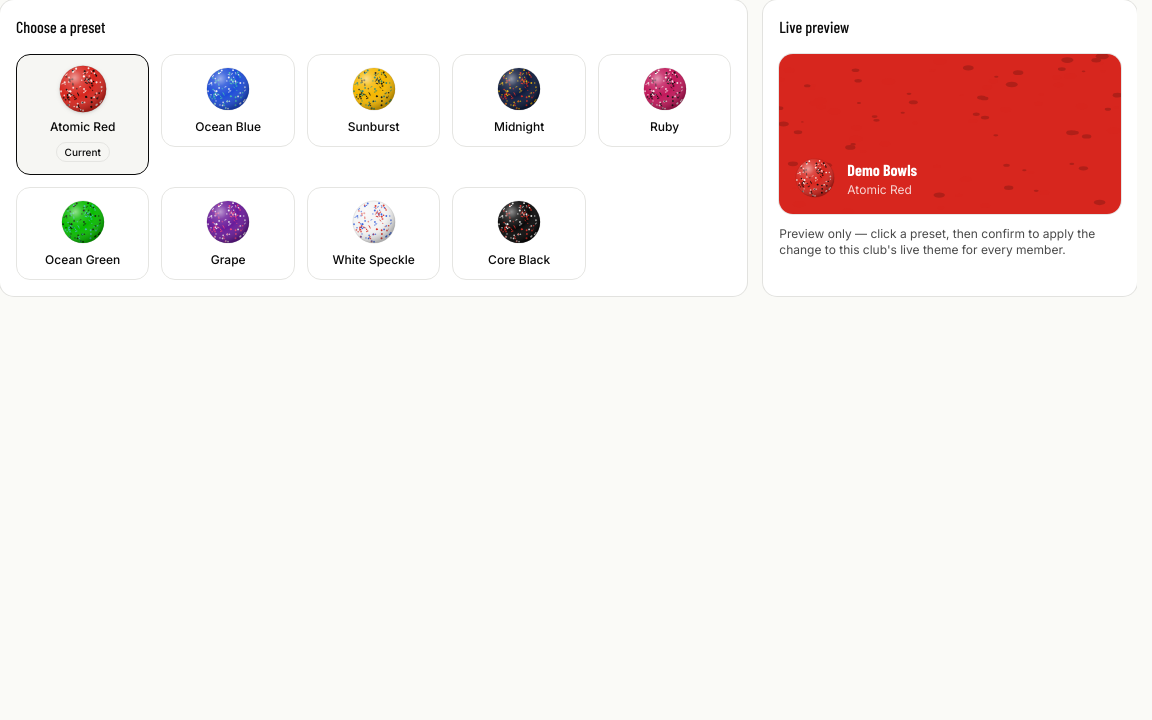
Test case: ThemeTab › opens the confirm dialog when a non-current preset is chosen
Click the radio button with test id "theme-preset-ocean-blue".
click(228, 100)  # box [162,54,295,147]
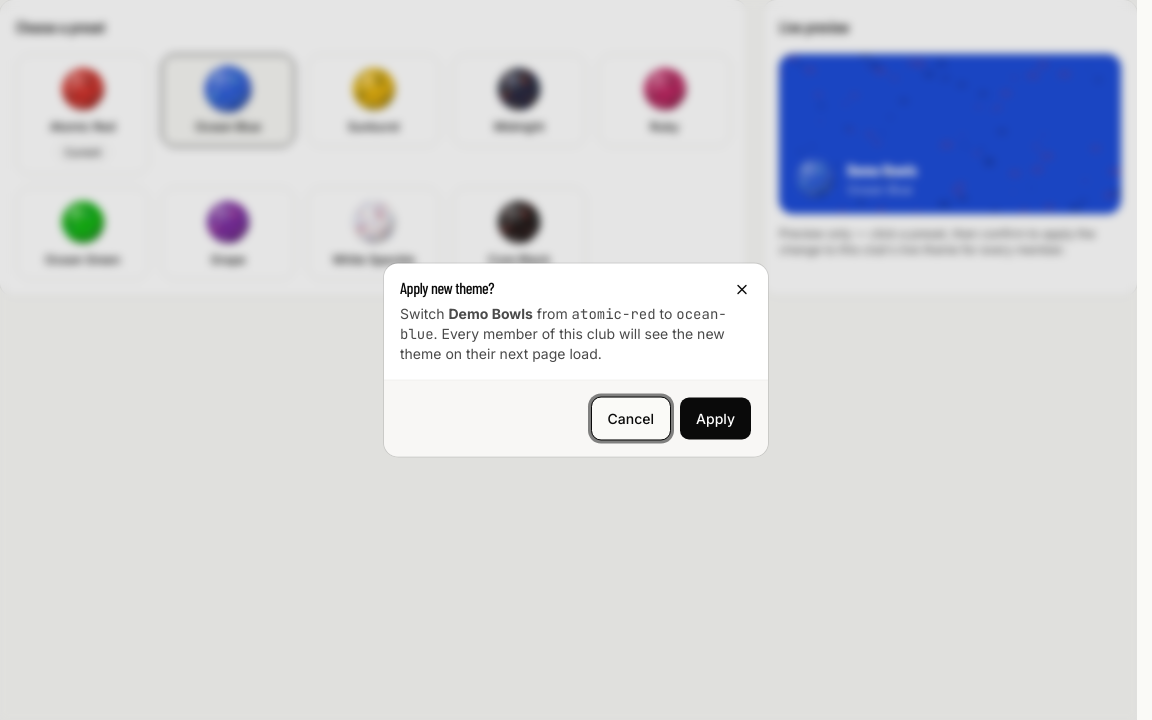
Expected: the dialog with test id "theme-confirm-dialog" is shown, [384,264,768,456]
